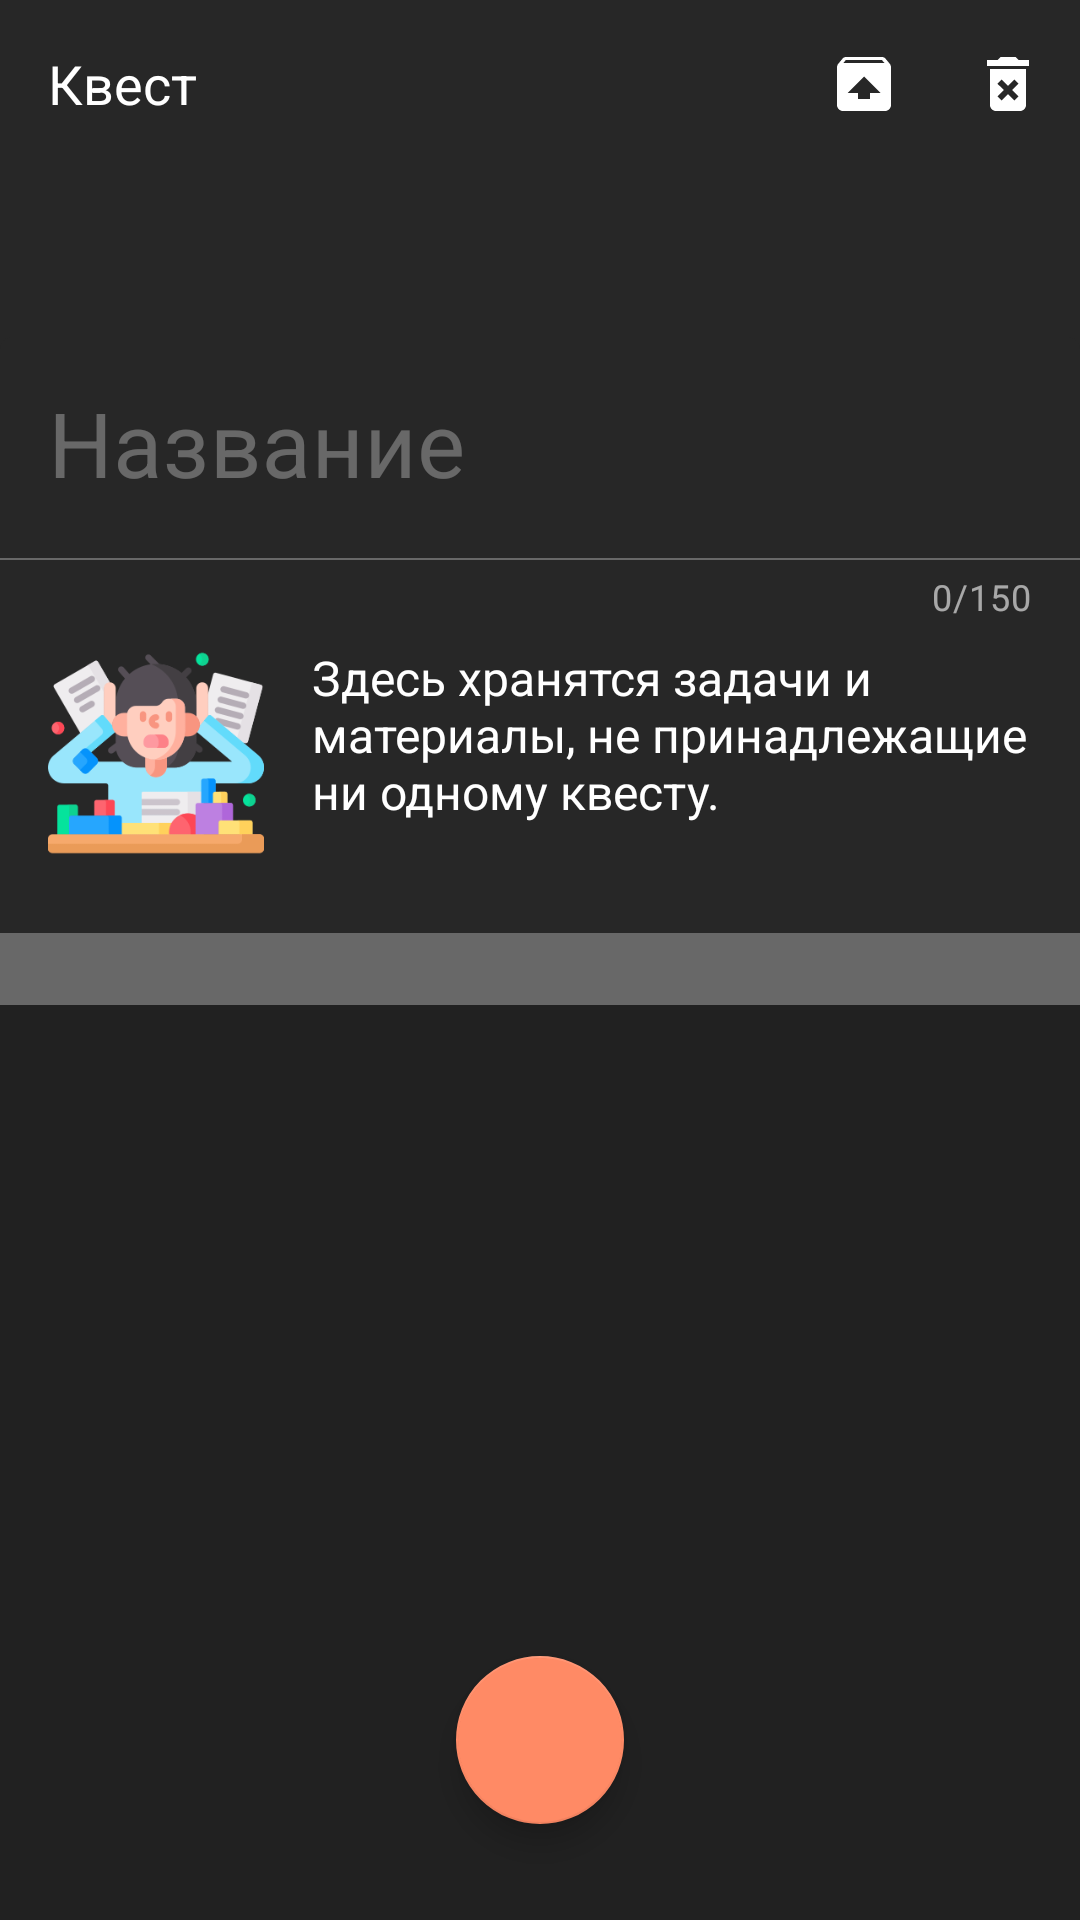

Icons on this 1080 x 1920 Android screen, each with the point to tap as (x=x, y=y):
Беспорядок: (x=156, y=753)
